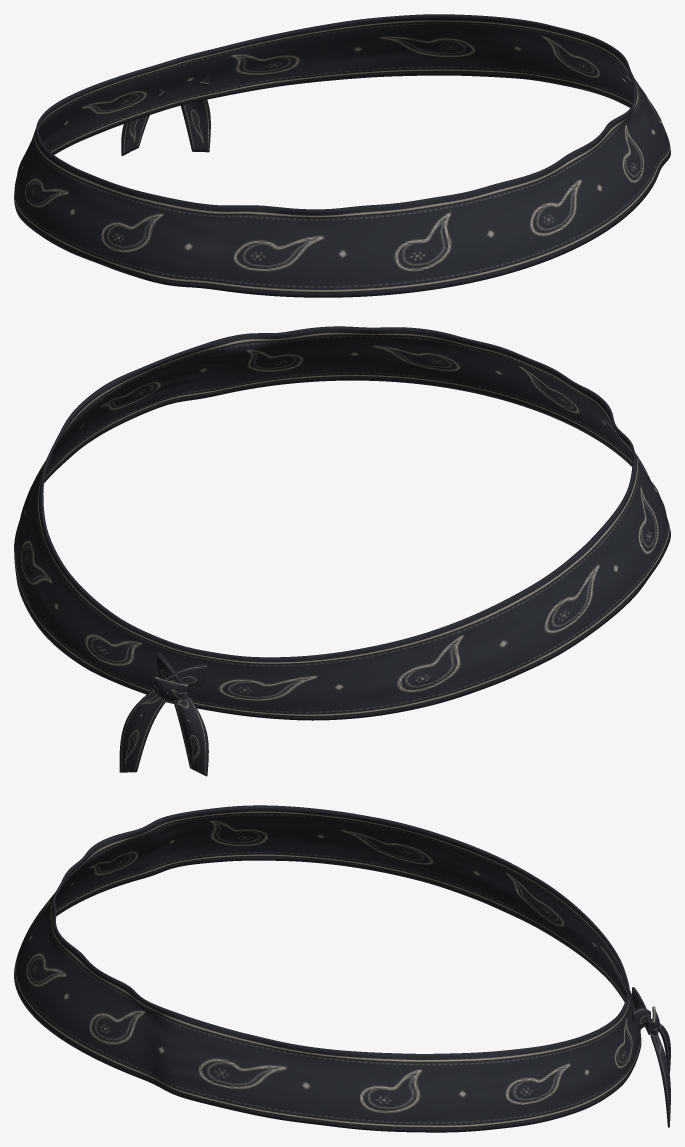
The model's file is Masculine-sidepart-bandana.glb.
The picture shows the model from 3 angles, top to bottom: view 1: azimuth 30°, elevation 25°; view 2: azimuth 150°, elevation 25°; view 3: azimuth 270°, elevation 25°; orthographic projection. The views are drawn at different scales.
Visible parts, largest first — view 1: Bandana / folded forehead wrap, Bandana / falling tie 1, Bandana / falling tie -1; view 2: Bandana / folded forehead wrap, Bandana / falling tie 1, Bandana / falling tie -1; view 3: Bandana / folded forehead wrap, Bandana / falling tie 1.
Boxes of the visible parts, x1,y1,x2,y2 form: Bandana / folded forehead wrap: (14, 14, 670, 297); Bandana / falling tie 1: (181, 99, 210, 152); Bandana / falling tie -1: (121, 115, 149, 155); Bandana / folded forehead wrap: (14, 326, 670, 720); Bandana / falling tie 1: (119, 689, 166, 772); Bandana / falling tie -1: (173, 696, 208, 776); Bandana / folded forehead wrap: (14, 805, 641, 1132); Bandana / falling tie 1: (650, 1019, 670, 1127).
Bounding box in the file's own units: 0.7564 × 0.2664 × 0.7872.
1 material, 1 textured.
